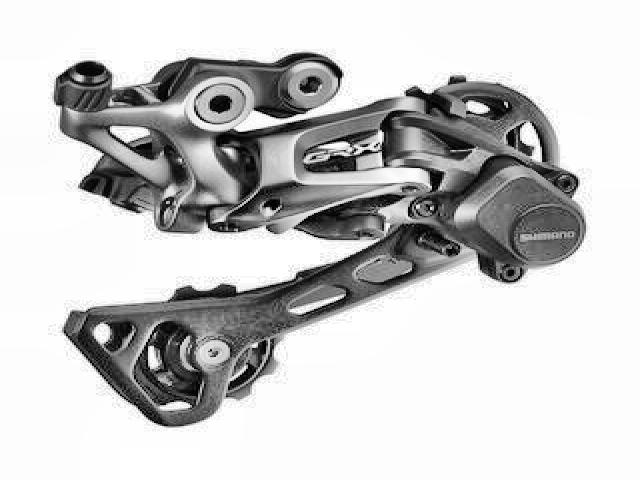rear_derailleur: (53, 45, 591, 430)
